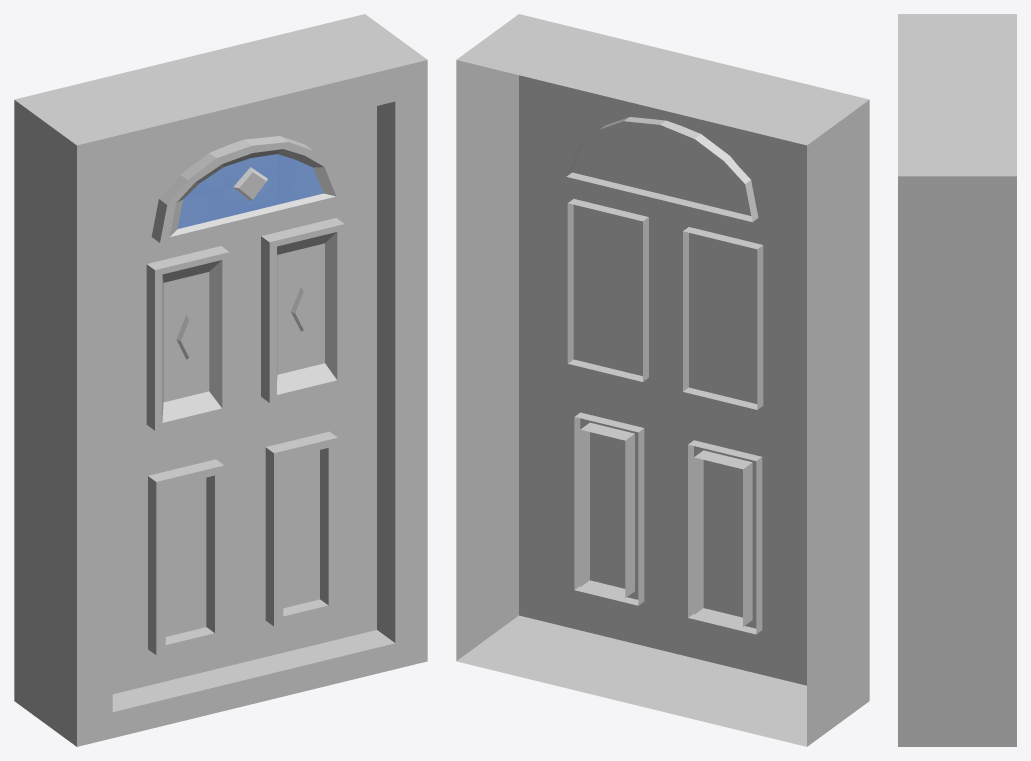
File: Door_04.fbx
3 renders of one model, left to right at view 1: azimuth 30°, elevation 25°; view 2: azimuth 150°, elevation 25°; view 3: azimuth 270°, elevation 25°, orthographic. The views are drawn at different scales.
Visible parts, largest first — view 1: polySurface183, polySurface185, polySurface186, polySurface184, polySurface188, polySurface187; view 2: polySurface183, polySurface188, polySurface187, polySurface185, polySurface186, polySurface184; view 3: polySurface183.
Part boxes in pixels (x1=…): polySurface183: x1=14, y1=14, x2=427, y2=746; polySurface185: x1=261, y1=218, x2=344, y2=402; polySurface186: x1=146, y1=246, x2=229, y2=430; polySurface184: x1=151, y1=136, x2=345, y2=242; polySurface188: x1=148, y1=459, x2=224, y2=655; polySurface187: x1=265, y1=431, x2=337, y2=626; polySurface183: x1=456, y1=14, x2=869, y2=746; polySurface188: x1=688, y1=440, x2=762, y2=634; polySurface187: x1=574, y1=412, x2=644, y2=605; polySurface185: x1=567, y1=199, x2=648, y2=381; polySurface186: x1=683, y1=227, x2=763, y2=409; polySurface184: x1=566, y1=117, x2=758, y2=222; polySurface183: x1=898, y1=14, x2=1016, y2=746.
Bounding box in the file's own units: 152 × 249 × 47.07.
